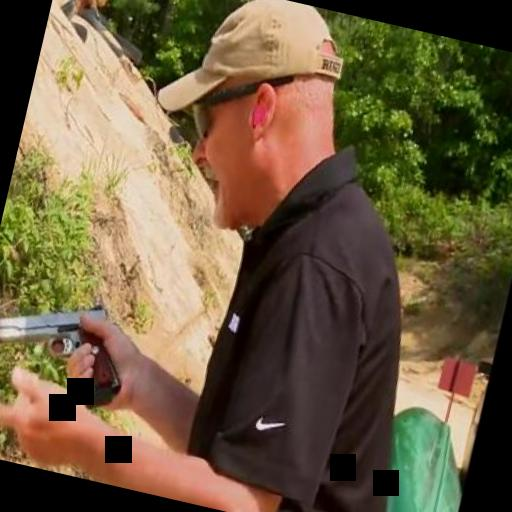Handgun: (0, 279, 142, 413)
